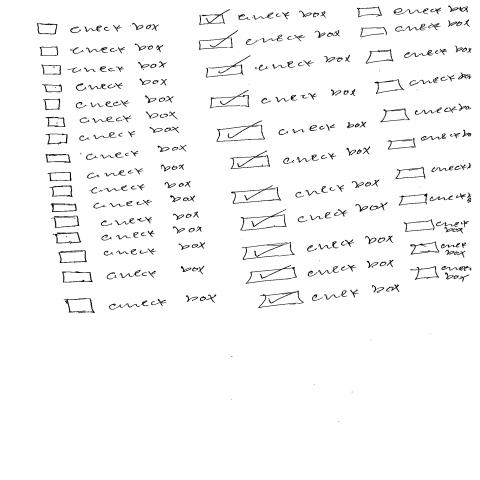Check Box: (242, 236, 394, 262), (259, 285, 400, 310), (205, 56, 351, 79), (64, 294, 218, 315), (198, 31, 341, 51), (60, 245, 207, 264), (210, 90, 356, 109), (62, 266, 205, 284), (46, 145, 188, 163), (47, 127, 179, 145), (49, 165, 185, 182), (200, 9, 327, 26), (45, 112, 178, 128), (44, 96, 174, 112), (51, 183, 193, 197), (40, 43, 165, 57), (43, 79, 168, 93), (42, 62, 168, 75), (37, 24, 160, 35)
